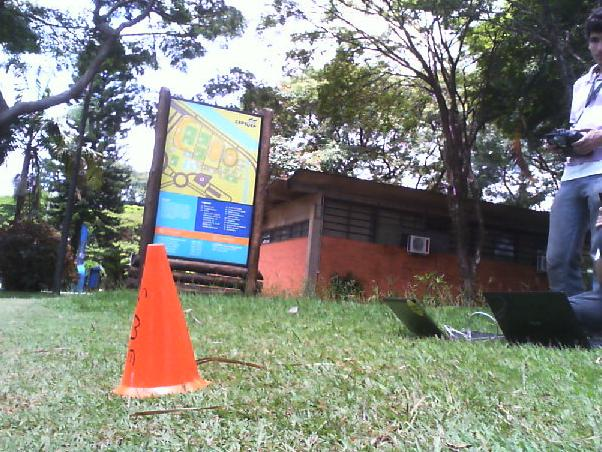0 cone: (111, 244, 213, 400)
